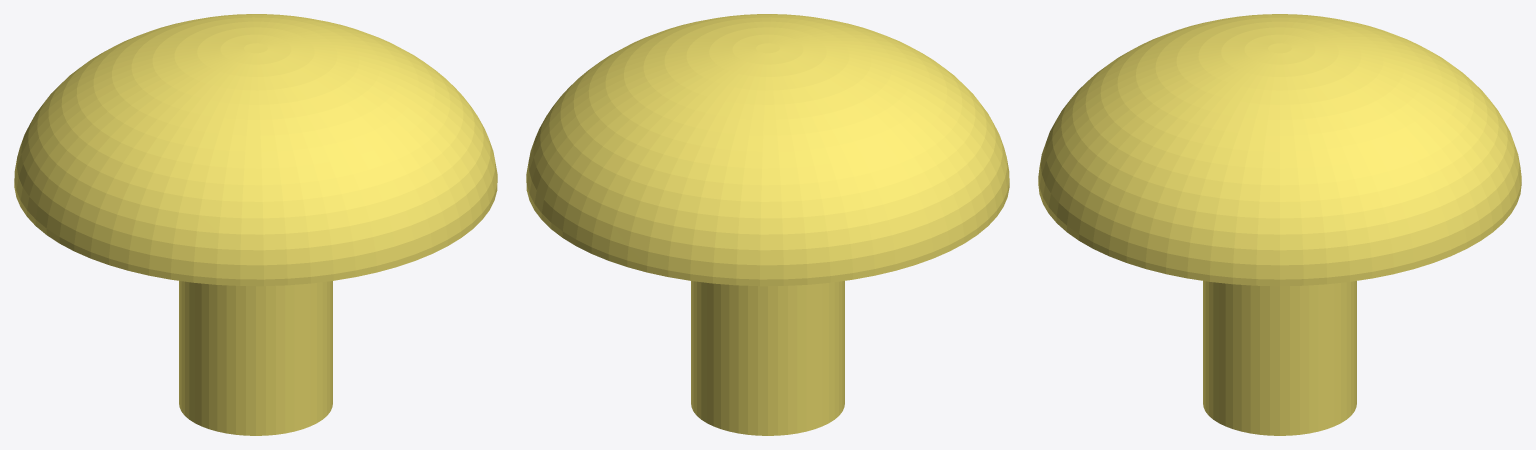
File: mushroom.glb
3 views of the same model, side by side, from view 1: azimuth 30°, elevation 25°; view 2: azimuth 150°, elevation 25°; view 3: azimuth 270°, elevation 25° (orthographic).
Bounding box in the file's own units: 21.97 × 17.81 × 21.97.
